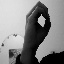o: (23, 1, 52, 43)
